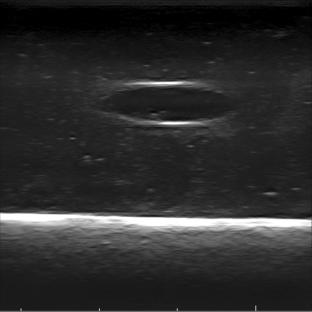vessel: (101, 81, 237, 126)
